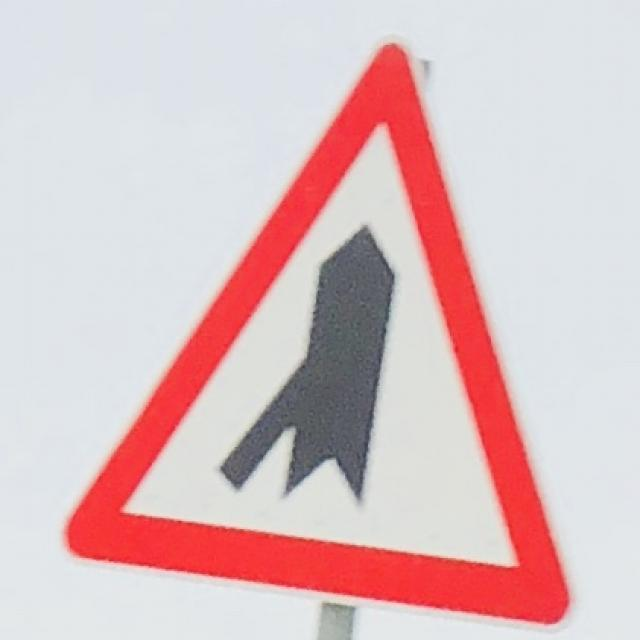cross road: (52, 34, 614, 625)
